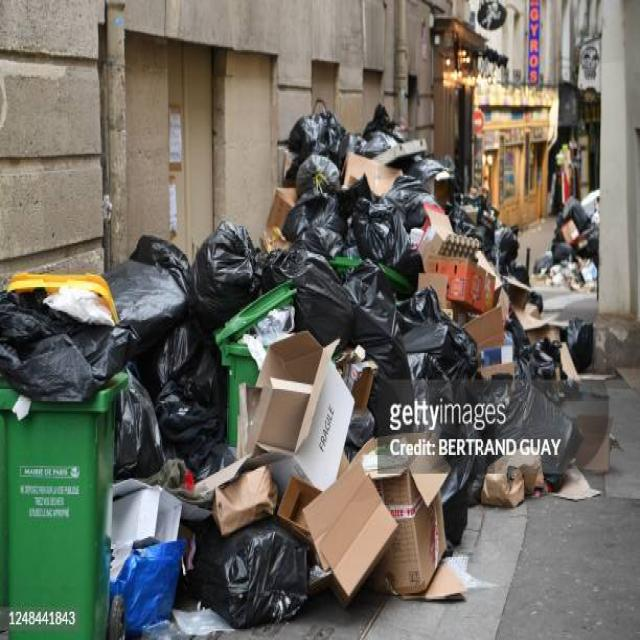cardboard: (303, 434, 450, 602), (488, 447, 546, 508)
trash: (125, 129, 505, 381)
